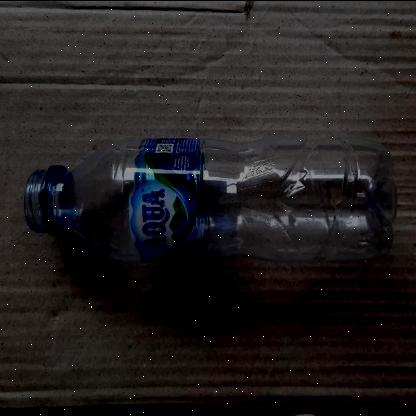Plastic Bottle: (20, 136, 400, 262)
